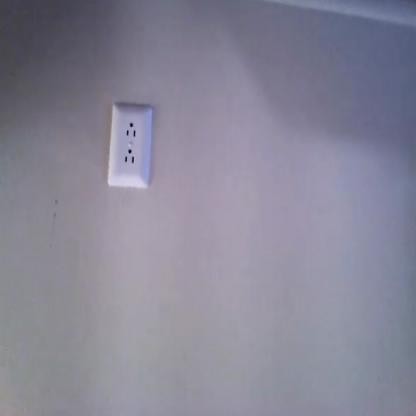OUTLET: (107, 104, 153, 189)
